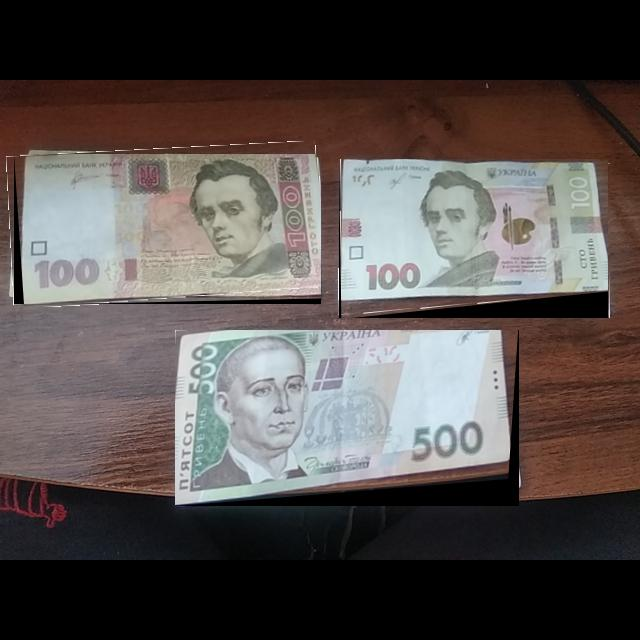100uah: (23, 154, 322, 305), (341, 159, 609, 301)
500uah: (175, 330, 512, 506)
